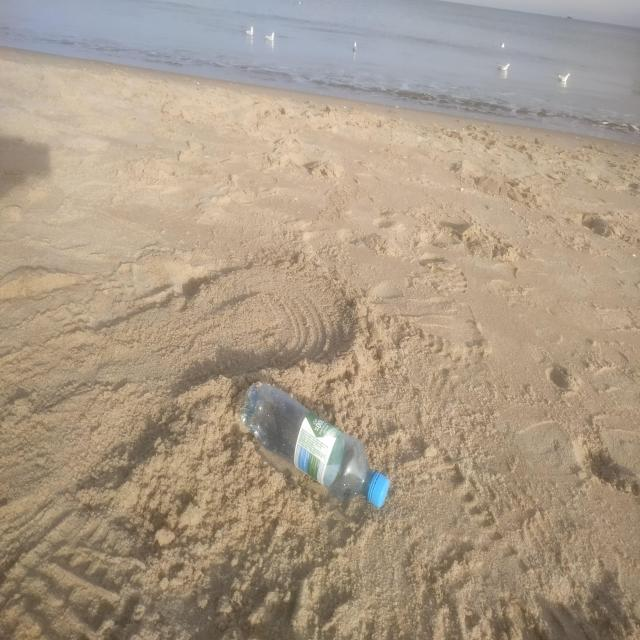litter: (243, 381, 395, 513)
